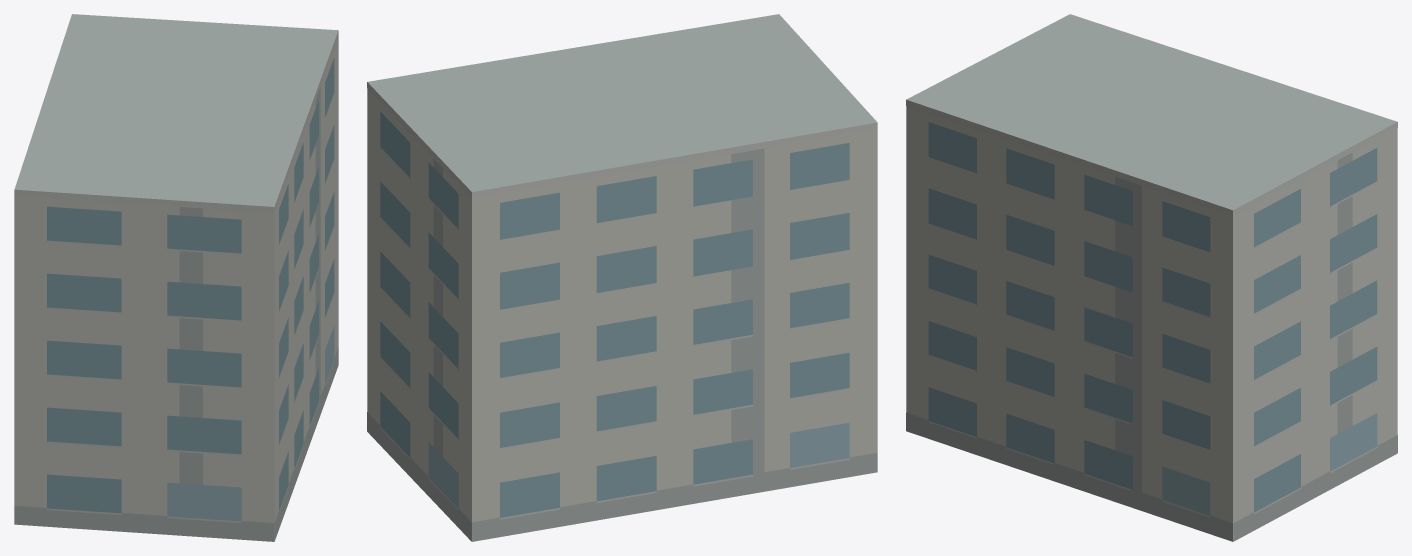
Rendered from survey-upis-32951023.glb.
3 views of the same model, side by side, from view 1: azimuth 30°, elevation 25°; view 2: azimuth 150°, elevation 25°; view 3: azimuth 270°, elevation 25° (orthographic). The views are drawn at different scales.
Visible parts, largest first — view 1: survey-upis-32951023.tmp; view 2: survey-upis-32951023.tmp; view 3: survey-upis-32951023.tmp.
Boxes of the visible parts, bbox=[...] form: survey-upis-32951023.tmp: bbox=[14, 14, 338, 541]; survey-upis-32951023.tmp: bbox=[367, 14, 877, 541]; survey-upis-32951023.tmp: bbox=[906, 14, 1397, 541].
Bounding box in the file's own units: 16.45 × 12.95 × 17.41.
